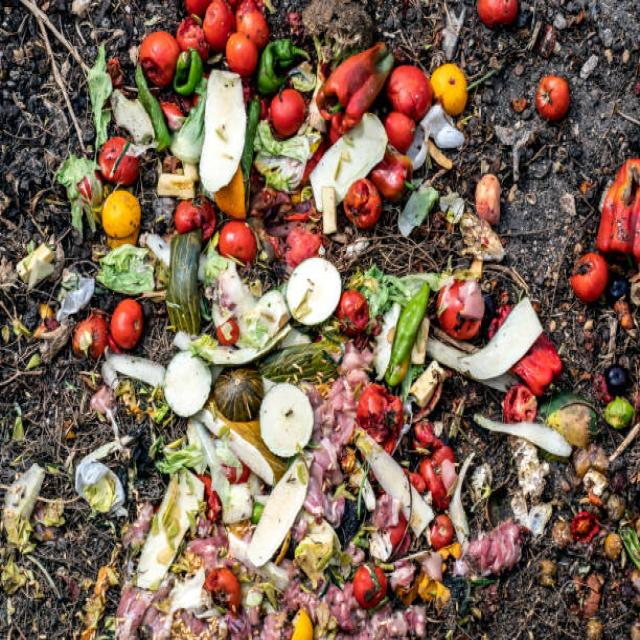paper: (299, 32, 413, 138), (527, 54, 588, 126), (270, 79, 322, 153), (141, 19, 189, 92), (263, 382, 312, 453), (212, 362, 268, 414), (200, 559, 248, 619), (108, 296, 157, 354), (230, 0, 262, 82), (98, 190, 156, 235), (569, 245, 602, 317), (220, 216, 266, 262), (336, 284, 378, 330), (475, 0, 526, 25)
